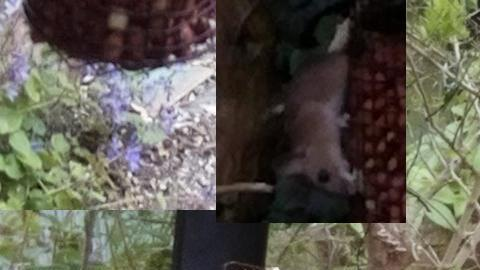mouse: (277, 50, 356, 196)
